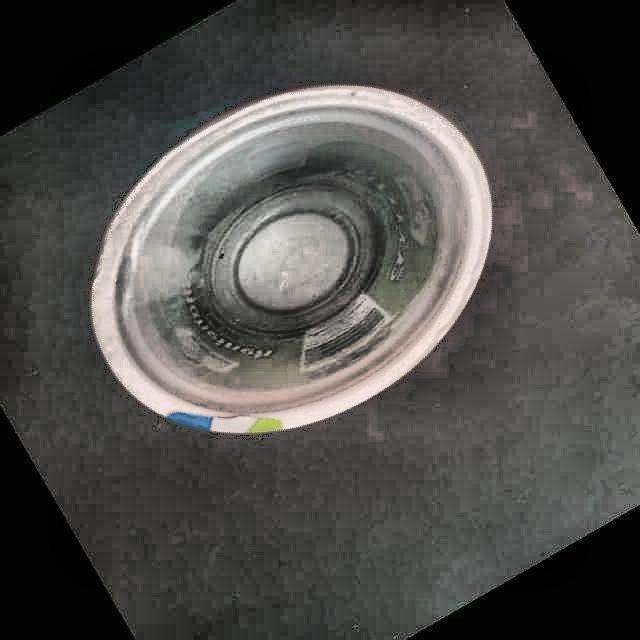plastic: (91, 85, 491, 433)
